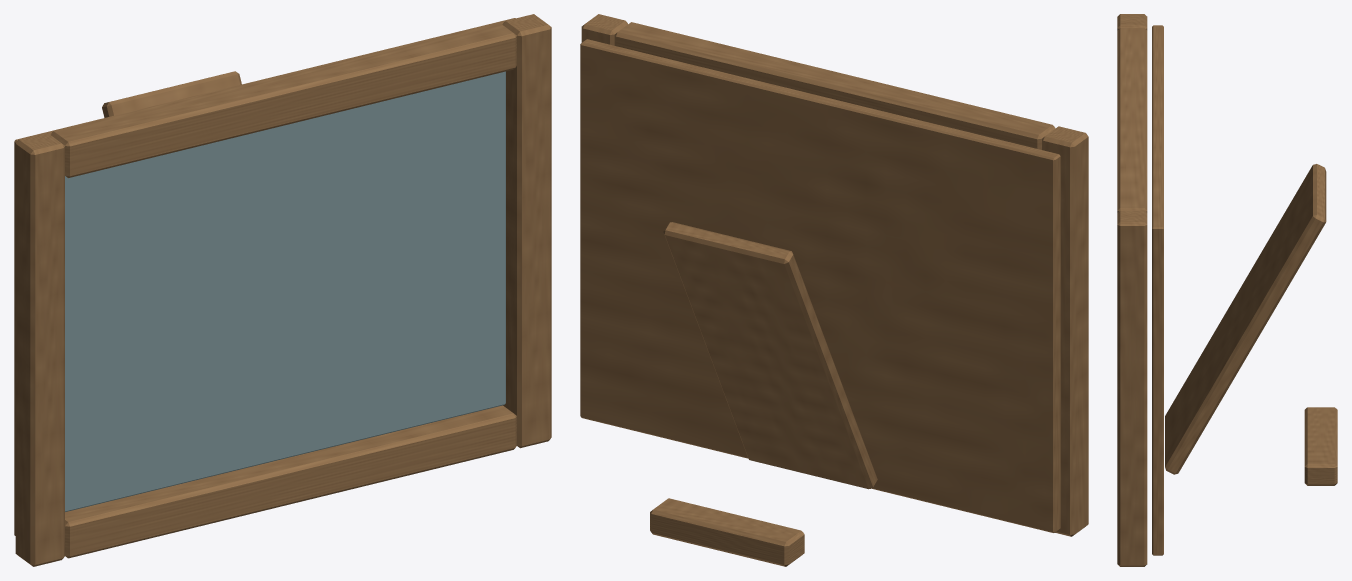
The picture shows the model from 3 angles, left to right: view 1: azimuth 30°, elevation 25°; view 2: azimuth 150°, elevation 25°; view 3: azimuth 270°, elevation 25°; orthographic projection. The views are drawn at different scales.
Visible parts, largest first — view 1: REPLACEABLE blank photo panel, Frame closed hardboard rear; view 2: Frame closed hardboard rear; view 3: Frame closed hardboard rear.
Boxes of the visible parts, bbox=[...] form: REPLACEABLE blank photo panel: bbox=[65, 71, 505, 511]; Frame closed hardboard rear: bbox=[14, 14, 551, 566]; Frame closed hardboard rear: bbox=[580, 14, 1088, 566]; Frame closed hardboard rear: bbox=[1117, 14, 1337, 566].
Size of the model in its own units: 0.33 by 0.252 by 0.146.
2 materials, 1 textured.
